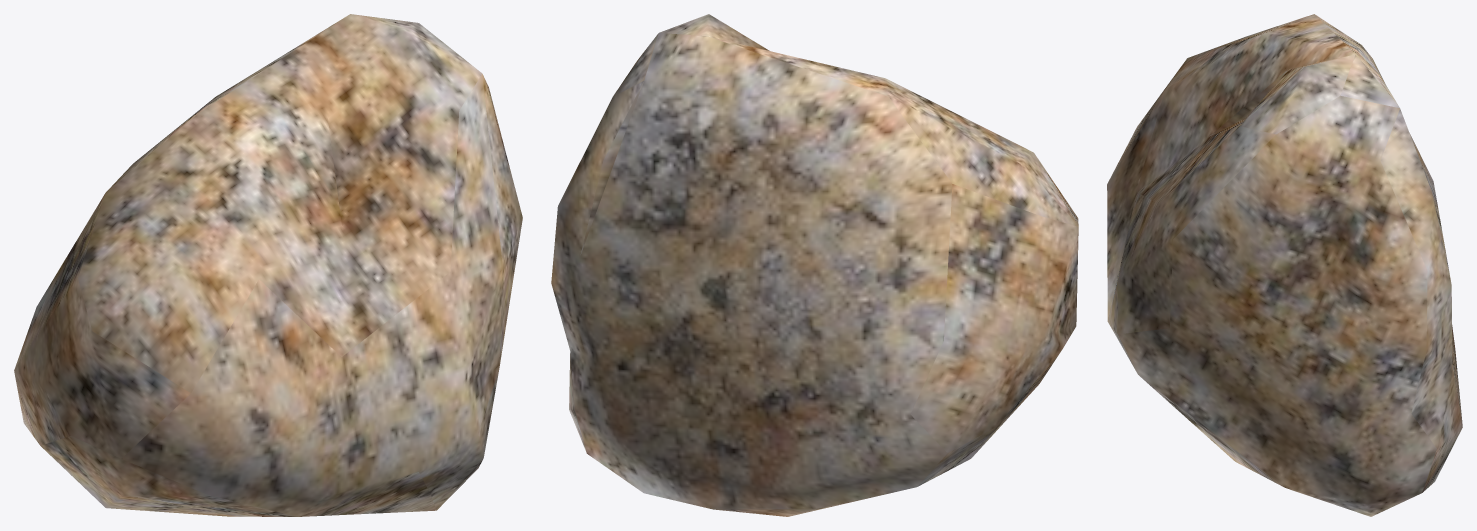
The picture shows the model from 3 angles, left to right: view 1: azimuth 30°, elevation 25°; view 2: azimuth 150°, elevation 25°; view 3: azimuth 270°, elevation 25°; orthographic projection. The views are drawn at different scales.
Visible parts, largest first — view 1: rock014_lod4; view 2: rock014_lod4; view 3: rock014_lod4.
Part boxes in pixels (left/top/right/bottom): rock014_lod4: left=14, top=14, right=522, bottom=516; rock014_lod4: left=551, top=14, right=1078, bottom=516; rock014_lod4: left=1107, top=14, right=1462, bottom=516.
Size of the model in its own units: 1 by 0.9679 by 0.7287.
1 material, 1 textured.
